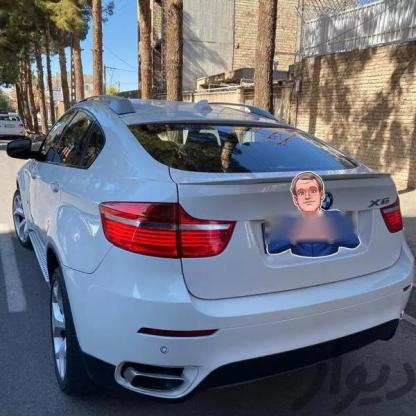Car: (0, 94, 416, 404), (0, 106, 27, 144)
